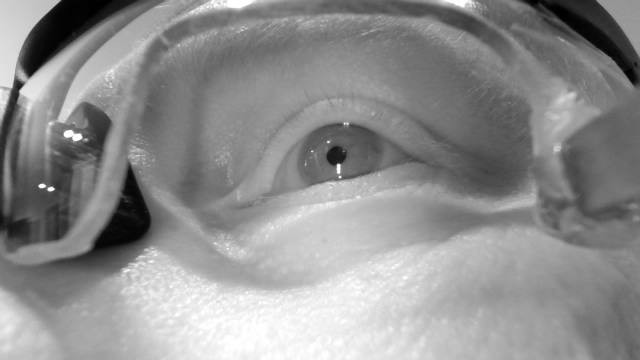pupil: (325, 145, 348, 166)
